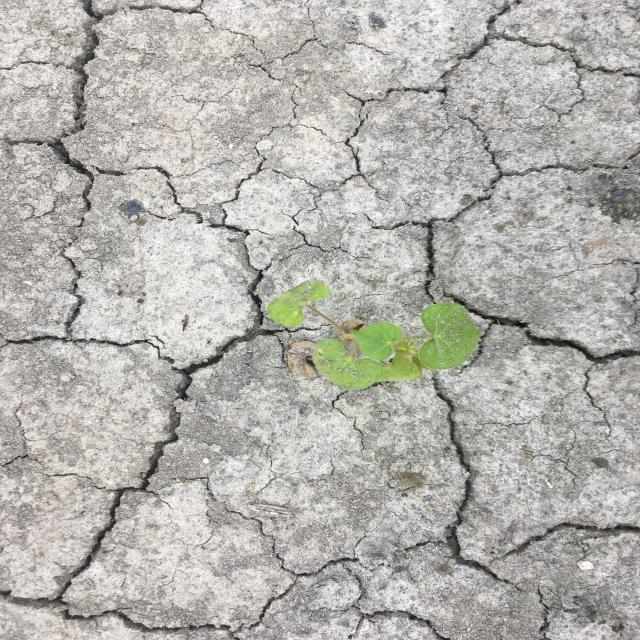MorningGlory: (266, 278, 487, 393)
